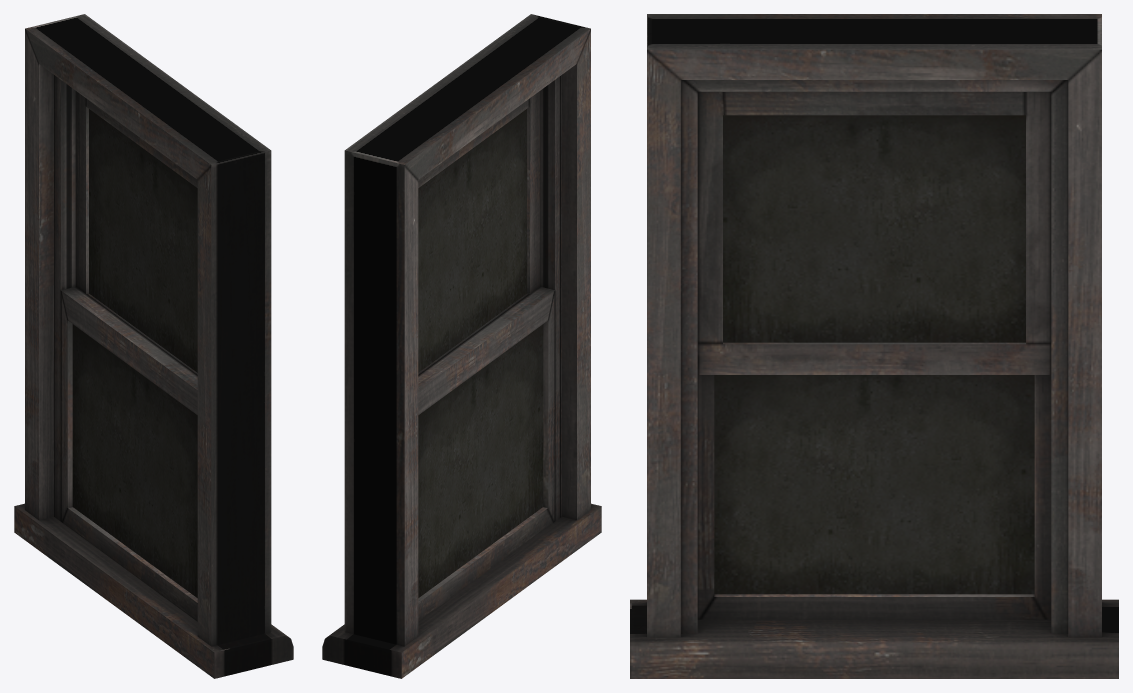
Rendered from window_small.fbx.
3 views of the same model, side by side, from view 1: azimuth 30°, elevation 25°; view 2: azimuth 150°, elevation 25°; view 3: azimuth 270°, elevation 25° (orthographic). The views are drawn at different scales.
Parts seen in each view (by area): view 1: Window_Small; view 2: Window_Small; view 3: Window_Small.
Boxes of the visible parts, x1,y1,x2,y2 form: Window_Small: (14,14,293,678); Window_Small: (322,14,601,678); Window_Small: (630,14,1118,678).
Size of the model in its own units: 25.91 by 159 by 113.
